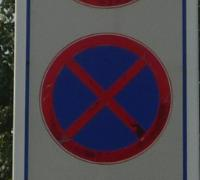No Parking: (41, 36, 173, 167)
